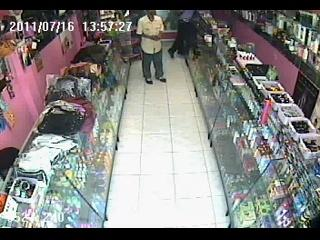Normal: (136, 10, 166, 84)
